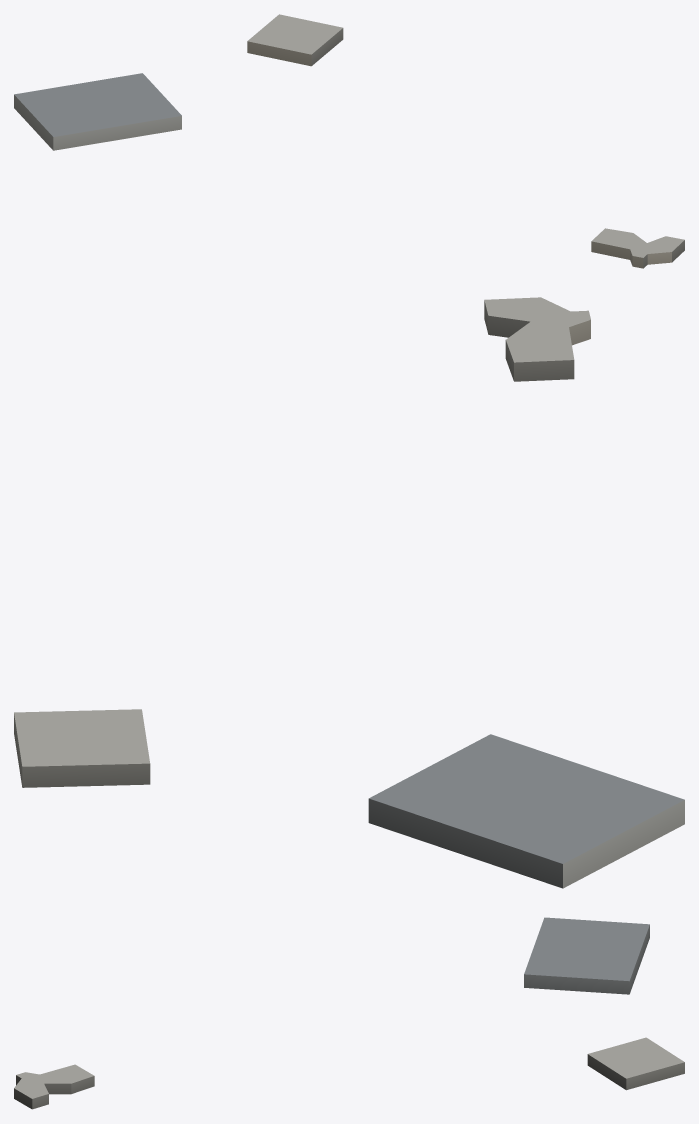
Rendered from bld_16_6.fbx.
The picture shows the model from 3 angles, top to bottom: view 1: azimuth 30°, elevation 25°; view 2: azimuth 150°, elevation 25°; view 3: azimuth 270°, elevation 25°; orthographic projection. The views are drawn at different scales.
Visible parts, largest first — view 1: bld_16_6_LOD0; view 2: bld_16_6_LOD0; view 3: bld_16_6_LOD0.
Part boxes in pixels (box(x1,y1,x2,y2)): bld_16_6_LOD0: box(14, 14, 684, 268); bld_16_6_LOD0: box(14, 297, 684, 888); bld_16_6_LOD0: box(14, 917, 684, 1109).
Size of the model in its own units: 349 by 12.27 by 554.
